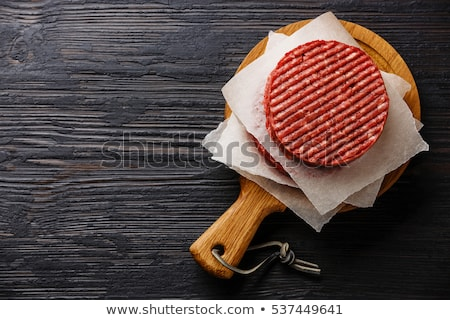ground_beef: (266, 37, 391, 167)
